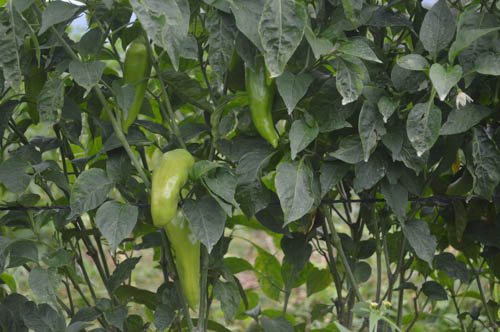ChiliPepper: (150, 148, 193, 228), (167, 210, 202, 304), (118, 42, 149, 131), (246, 57, 276, 147)
